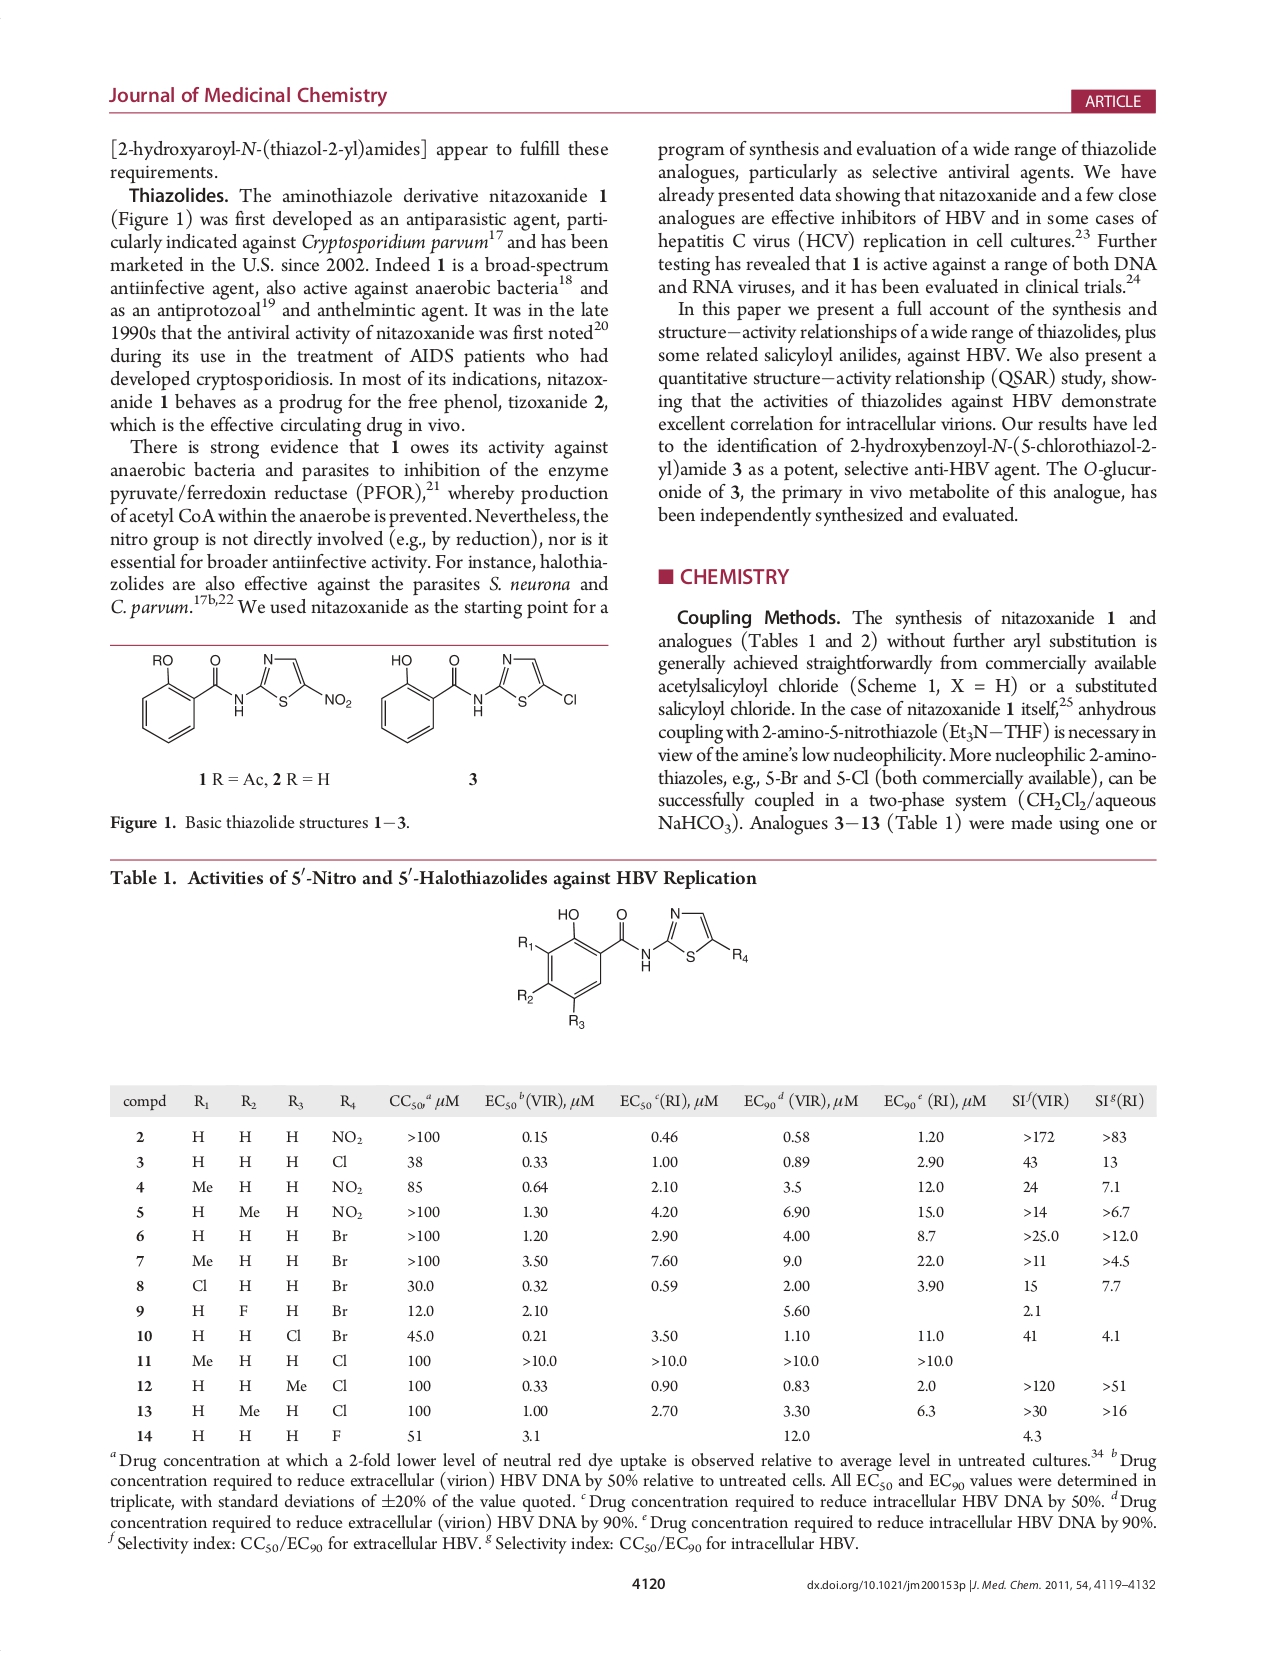exist_molecular: (517, 902, 749, 1032), (136, 648, 355, 747), (378, 648, 580, 745)
